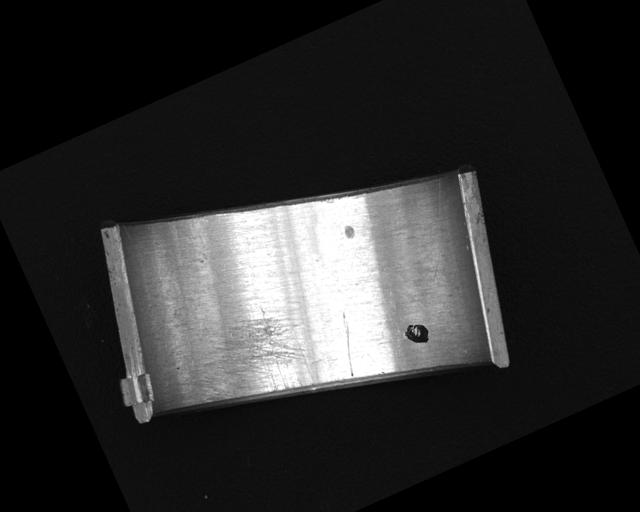blot: (400, 319, 433, 350)
bruise: (341, 222, 357, 241)
nick: (394, 177, 476, 281), (325, 310, 371, 377)
scratch: (179, 297, 322, 429)
